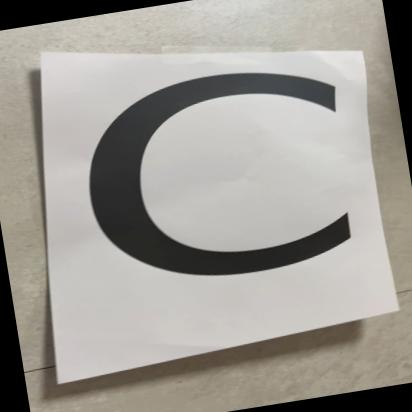seat: (31, 0, 407, 384)
